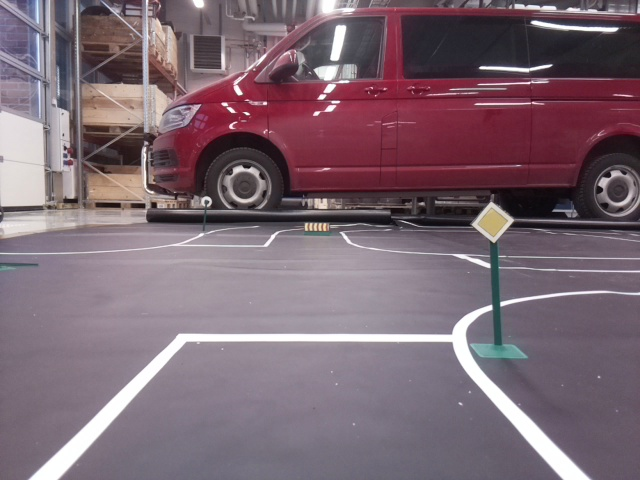Priority: (467, 202, 514, 241)
